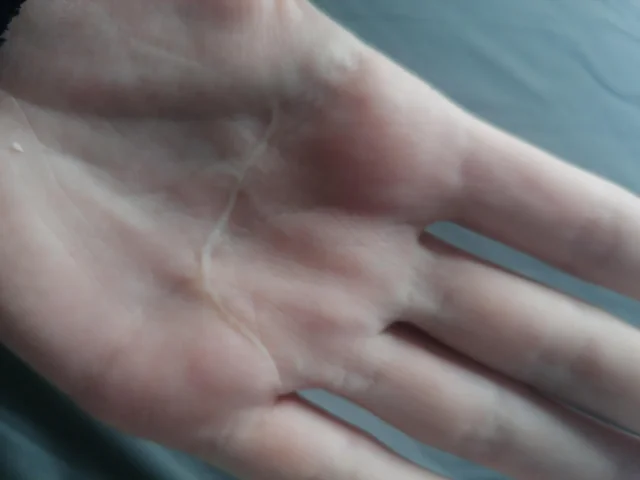scar: (182, 93, 314, 394)
